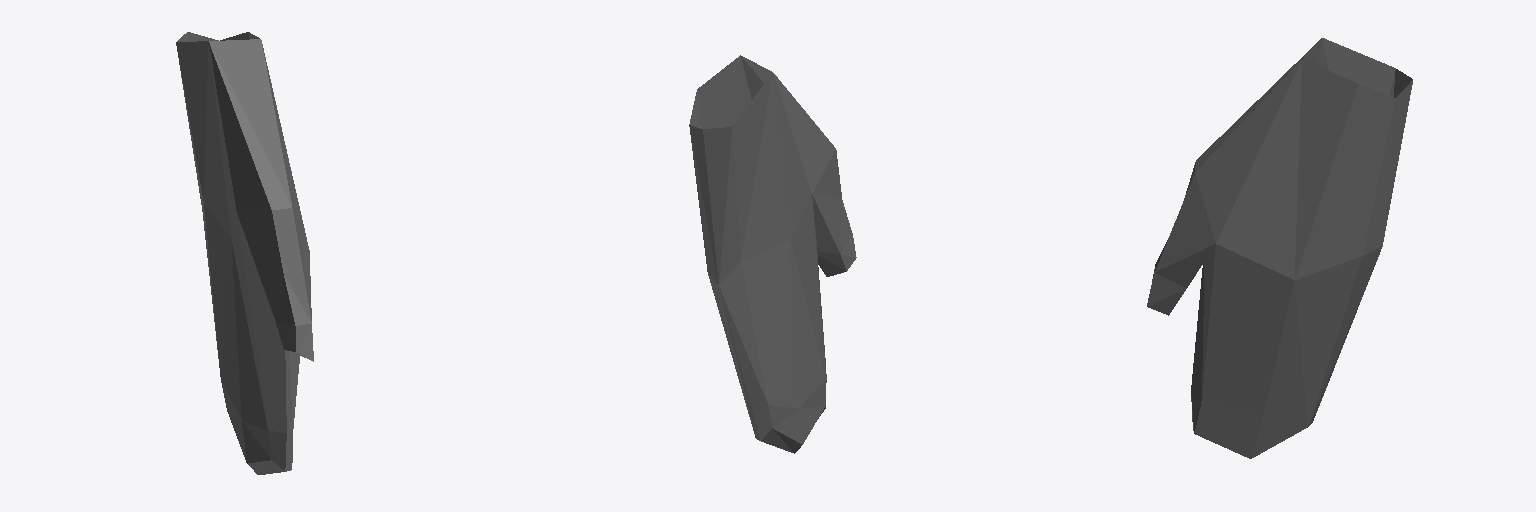
Rendered from righthand.obj.
The picture shows the model from 3 angles: view 1: azimuth 30°, elevation 25°; view 2: azimuth 150°, elevation 25°; view 3: azimuth 270°, elevation 25°; orthographic projection.
Parts seen in each view (by area): view 1: Object001; view 2: Object001; view 3: Object001.
Part boxes in pixels (left/top/right/bottom): Object001: left=176, top=32, right=313, bottom=474; Object001: left=689, top=55, right=856, bottom=453; Object001: left=1147, top=38, right=1412, bottom=458.
Size of the model in its own units: 2.39 by 14.87 by 8.74.